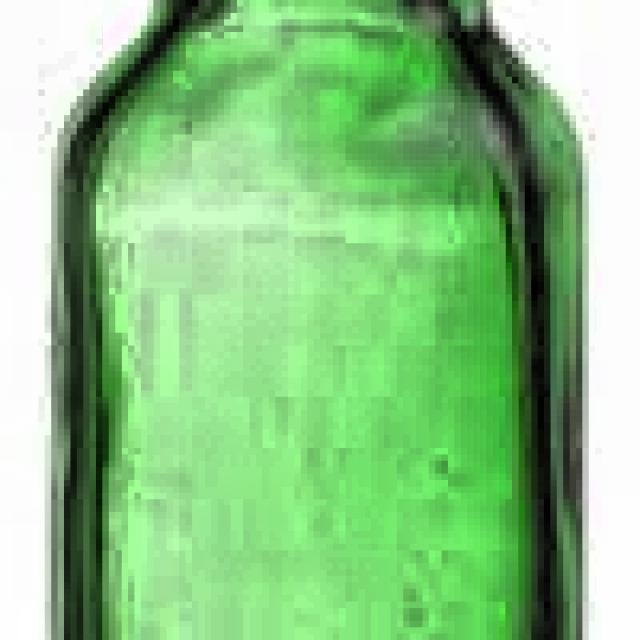glass: (53, 0, 590, 640)
